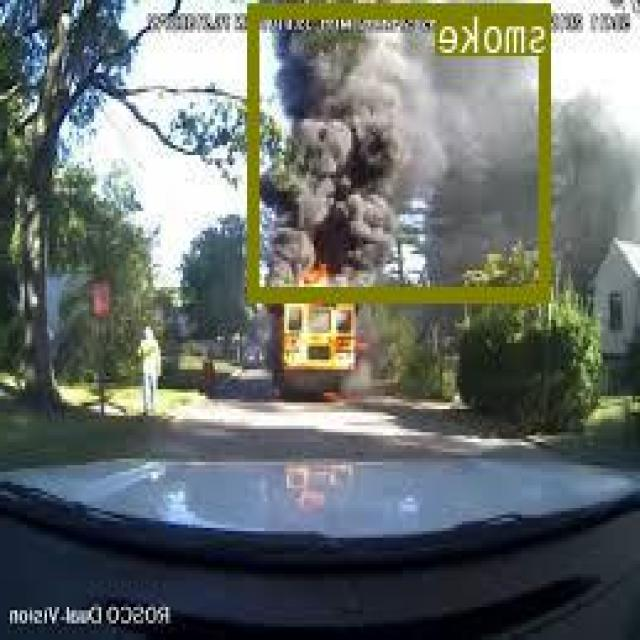smoke: (251, 3, 553, 297)
